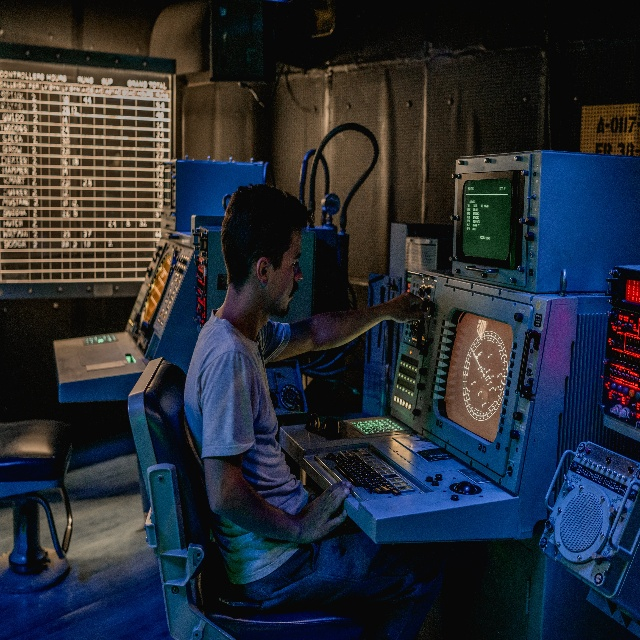Sin_guantes: (295, 479, 351, 546), (386, 291, 429, 323)
